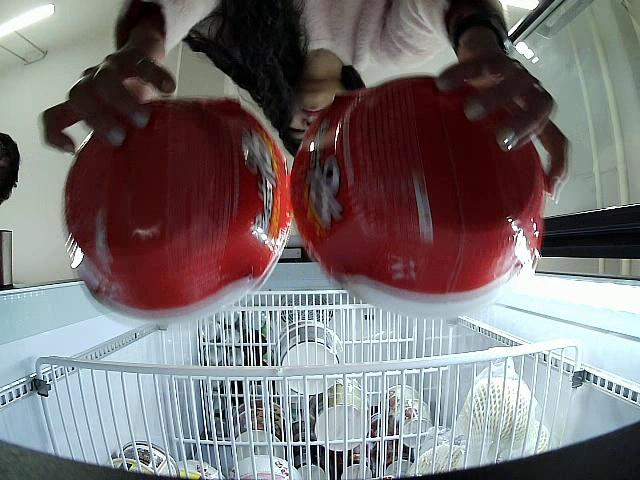00_hand: (435, 48, 572, 200), (36, 33, 176, 157)
10_wangTtukkeong: (291, 76, 543, 317), (61, 97, 291, 321)
